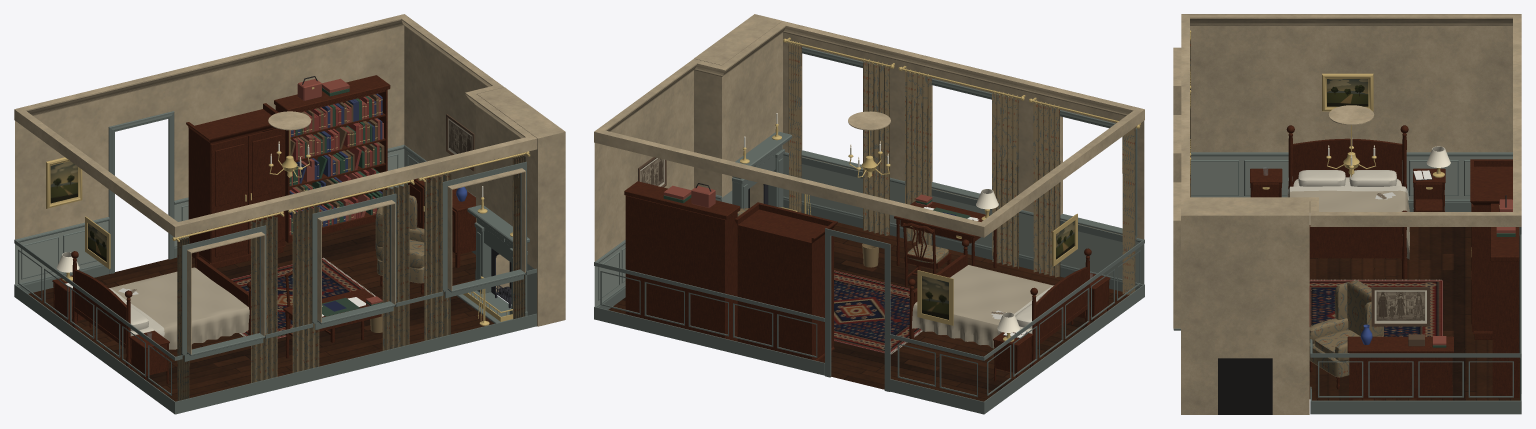
Rendered from room_amb_room.gltf.
3 renders of one model, left to right at view 1: azimuth 30°, elevation 25°; view 2: azimuth 150°, elevation 25°; view 3: azimuth 270°, elevation 25°, orthographic. The views are drawn at different scales.
Parts seen in each view (by area): view 1: 主人的卧室·墙面、地面与线脚, 主人的卧室·书柜-col, 主人的卧室·衣柜-col, 主人的卧室·双人床-col, 主人的卧室·烟囱墙-col, 主人的卧室·壁炉-col, 主人的卧室·地毯, 主人的卧室·矮柜-col, 主人的卧室·扶手椅-col, 主人的卧室·北墙西段的画, 主人的卧室·南边床头柜-col, 主人的卧室·床头上方的画 (+6 smaller); view 2: 主人的卧室·墙面、地面与线脚, 主人的卧室·书柜-col, 主人的卧室·衣柜-col, 主人的卧室·双人床-col, 主人的卧室·地毯, 主人的卧室·壁炉-col, 主人的卧室·烟囱墙-col, 主人的卧室·北墙西段的画, 主人的卧室·写字椅-col, 主人的卧室·写字台-col, 主人的卧室·北边床头柜-col, 主人的卧室·床头上方的画 (+4 smaller); view 3: 主人的卧室·墙面、地面与线脚, 主人的卧室·烟囱墙-col, 主人的卧室·双人床-col, 主人的卧室·矮柜-col, 主人的卧室·书柜-col, 主人的卧室·衣柜-col, 主人的卧室·扶手椅-col, 主人的卧室·地毯, 主人的卧室·1926 年合影（hs_amb_photo）, 主人的卧室·床头上方的画, 主人的卧室·北边床头柜-col, 主人的卧室·南边床头柜-col (+4 smaller).
Part boxes in pixels (box(x1,y1,x2,y2)): 主人的卧室·墙面、地面与线脚: box(14, 14, 537, 414); 主人的卧室·书柜-col: box(274, 75, 390, 242); 主人的卧室·衣柜-col: box(186, 103, 285, 268); 主人的卧室·双人床-col: box(71, 251, 250, 368); 主人的卧室·烟囱墙-col: box(477, 87, 565, 326); 主人的卧室·壁炉-col: box(457, 205, 529, 325); 主人的卧室·地毯: box(231, 257, 375, 338); 主人的卧室·矮柜-col: box(408, 172, 475, 267); 主人的卧室·扶手椅-col: box(375, 195, 424, 294); 主人的卧室·北墙西段的画: box(46, 157, 82, 208); 主人的卧室·南边床头柜-col: box(129, 330, 169, 383); 主人的卧室·床头上方的画: box(85, 216, 110, 269); 主人的卧室·墙面、地面与线脚: box(594, 21, 1144, 414); 主人的卧室·书柜-col: box(624, 181, 740, 341); 主人的卧室·衣柜-col: box(734, 202, 837, 362); 主人的卧室·双人床-col: box(908, 239, 1091, 365); 主人的卧室·地毯: box(834, 270, 922, 354); 主人的卧室·壁炉-col: box(732, 131, 810, 214); 主人的卧室·烟囱墙-col: box(694, 14, 781, 208); 主人的卧室·北墙西段的画: box(917, 270, 953, 325); 主人的卧室·写字椅-col: box(902, 223, 951, 286); 主人的卧室·写字台-col: box(894, 201, 996, 268); 主人的卧室·北边床头柜-col: box(993, 332, 1033, 381); 主人的卧室·床头上方的画: box(1052, 213, 1077, 266); 主人的卧室·墙面、地面与线脚: box(1173, 14, 1521, 414); 主人的卧室·烟囱墙-col: box(1181, 201, 1309, 414); 主人的卧室·双人床-col: box(1286, 125, 1409, 279); 主人的卧室·矮柜-col: box(1347, 336, 1453, 400); 主人的卧室·书柜-col: box(1490, 203, 1519, 397); 主人的卧室·衣柜-col: box(1470, 159, 1512, 339); 主人的卧室·扶手椅-col: box(1309, 280, 1383, 389); 主人的卧室·地毯: box(1309, 279, 1442, 336); 主人的卧室·1926 年合影（hs_amb_photo）: box(1371, 287, 1429, 326); 主人的卧室·床头上方的画: box(1322, 73, 1373, 111); 主人的卧室·北边床头柜-col: box(1413, 168, 1445, 211); 主人的卧室·南边床头柜-col: box(1250, 168, 1282, 197).
Size of the model in its own units: 6.29 by 2.9 by 4.59.
46 materials, 16 textured.
